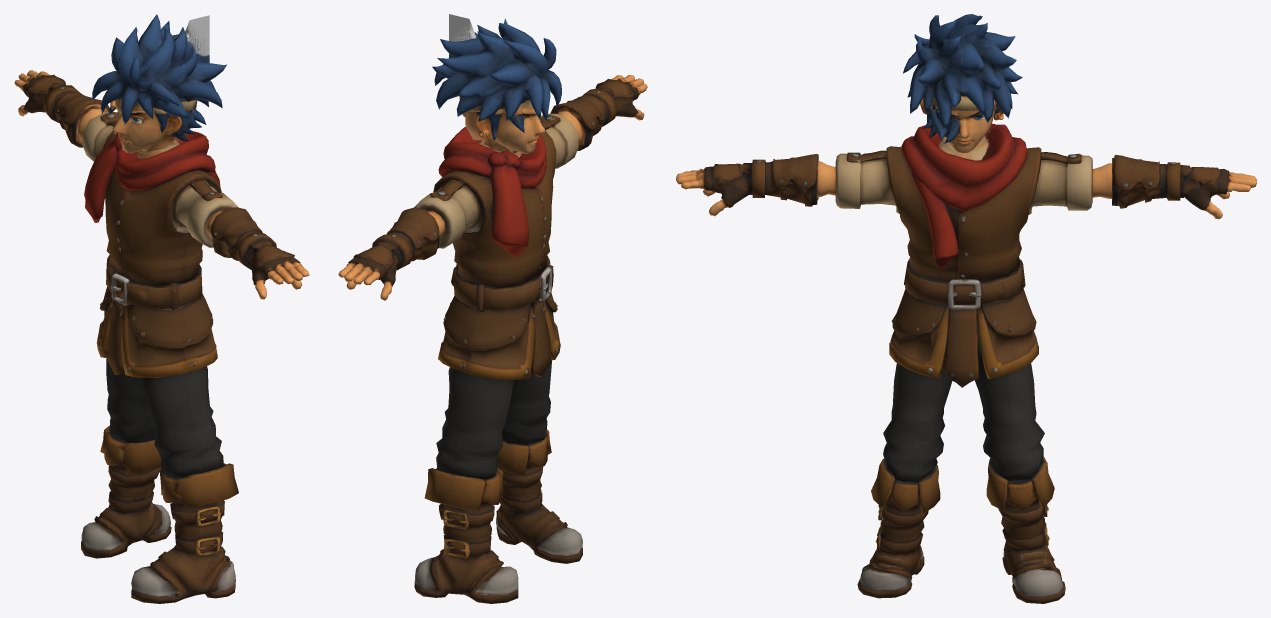
The model's file is Warrior_V3_candidate_03.glb.
3 renders of one model, left to right at view 1: azimuth 30°, elevation 25°; view 2: azimuth 150°, elevation 25°; view 3: azimuth 270°, elevation 25°, orthographic. The views are drawn at different scales.
Visible parts, largest first — view 1: tripo_node_da9db7e3-ffae-4b95-a374-da1dfdf8b9dc; view 2: tripo_node_da9db7e3-ffae-4b95-a374-da1dfdf8b9dc; view 3: tripo_node_da9db7e3-ffae-4b95-a374-da1dfdf8b9dc.
Boxes of the visible parts, x1,y1,x2,y2 form: tripo_node_da9db7e3-ffae-4b95-a374-da1dfdf8b9dc: [14, 14, 309, 603]; tripo_node_da9db7e3-ffae-4b95-a374-da1dfdf8b9dc: [338, 14, 647, 603]; tripo_node_da9db7e3-ffae-4b95-a374-da1dfdf8b9dc: [676, 14, 1256, 603].
Size of the model in its own units: 0.2207 by 0.998 by 0.9316.
Materials: 1 (1 with a texture image).
